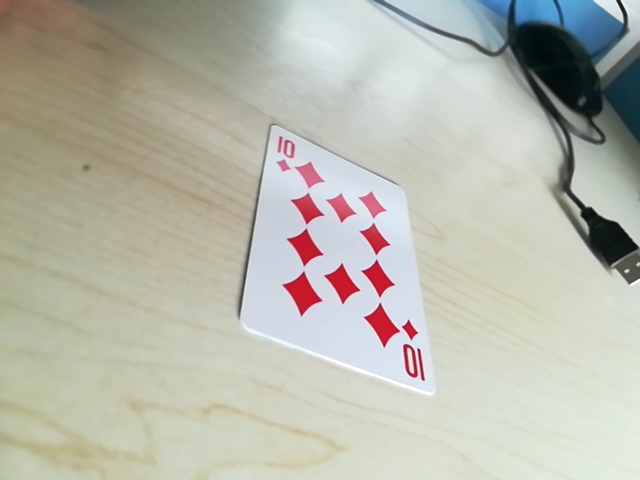fk 10: (270, 127, 311, 183), (397, 316, 427, 388)
